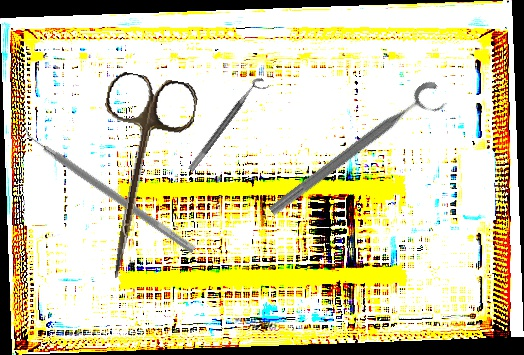Fixation Ring: (265, 77, 451, 230), (187, 75, 271, 178)
Iris Scissors: (75, 69, 201, 287)
Spatula Surgical: (17, 122, 202, 254)
